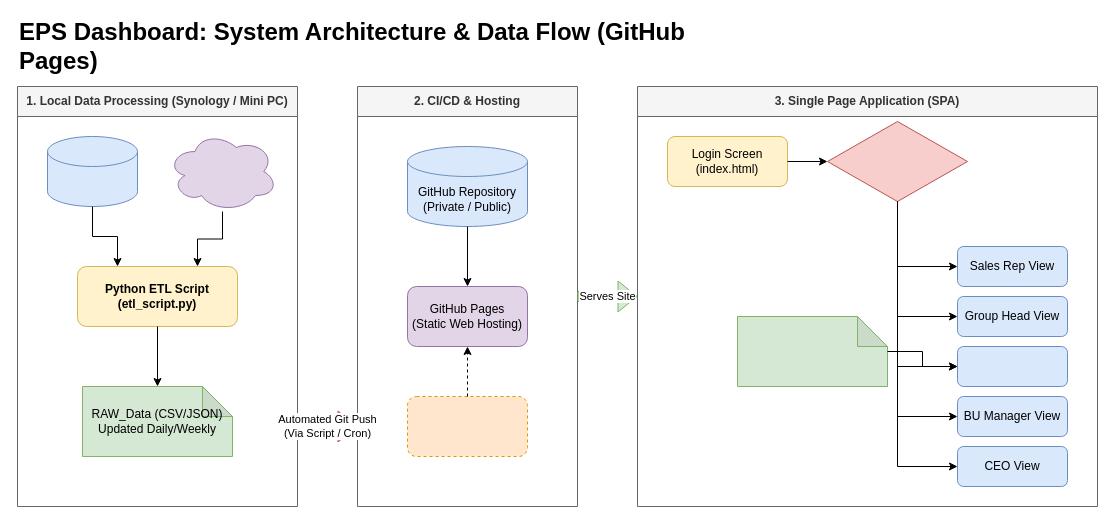
The diagram is 1115 pixels wide and 524 high, and some of its shapes have lost their labels. Here are the shapes that lost their labels. From the top down, the centre of each, then its label:
(x=92, y=171): Internal Systems (CRM / ERP)
(x=222, y=171): External Sources (BOT, OIE, Sheets)
(x=897, y=161): Role-Based Router (Check Permissions)
(x=812, y=351): Fetch Data (CSV/JSON) via AJAX / fetch()
(x=1012, y=366): PM View
(x=467, y=426): Authentication (Firebase Auth / API)
